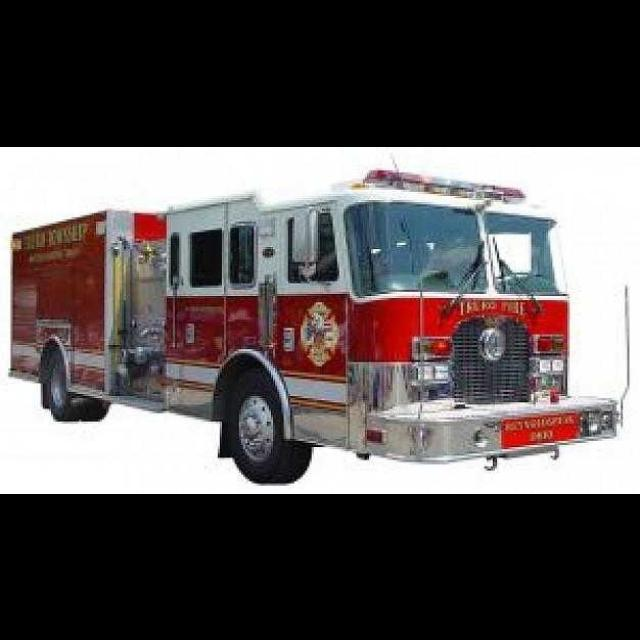emergency: (5, 166, 633, 482)
